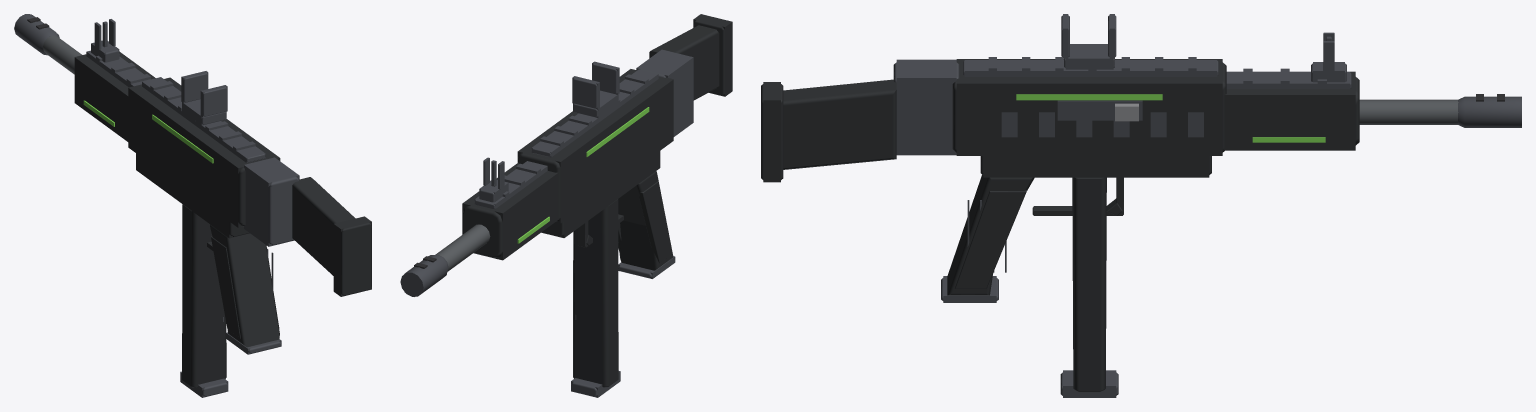
Rendered from flux.glb.
3 views of the same model, side by side, from view 1: azimuth 30°, elevation 25°; view 2: azimuth 150°, elevation 25°; view 3: azimuth 270°, elevation 25° (orthographic). The views are drawn at different scales.
Visible parts, largest first — view 1: L0, L1; view 2: L0, L1; view 3: L0, L1.
Boxes of the visible parts, box(x1,y1,x2,y2) form: L0: box(14, 14, 371, 397); L1: box(15, 15, 371, 397); L0: box(400, 15, 732, 396); L1: box(401, 14, 732, 397); L0: box(761, 15, 1521, 395); L1: box(763, 14, 1521, 397).
Bounding box in the file's own units: 0.0582 × 0.306 × 0.572.
